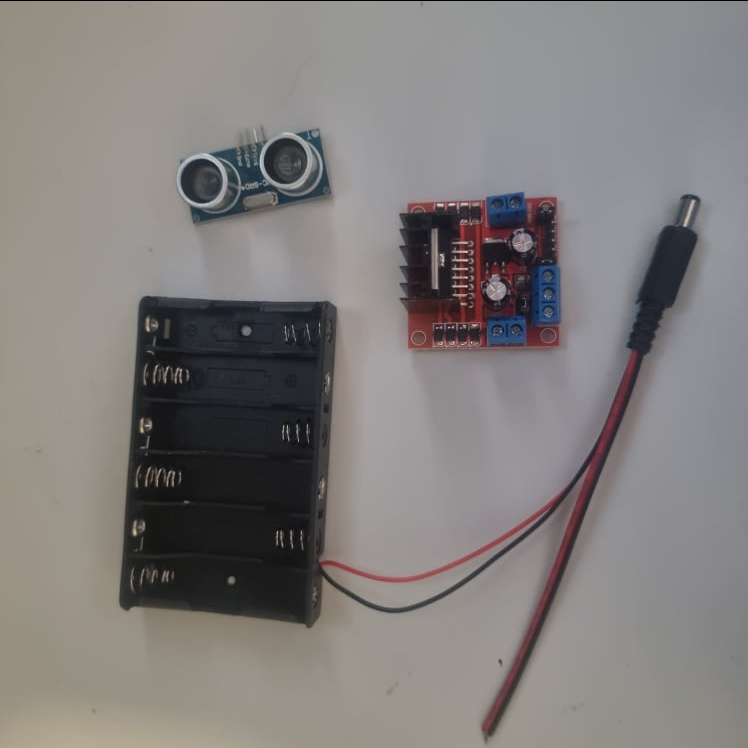BATTERY BOX: (119, 294, 337, 629)
MOTOR: (401, 189, 562, 350)
SENSOR: (176, 117, 335, 227)
